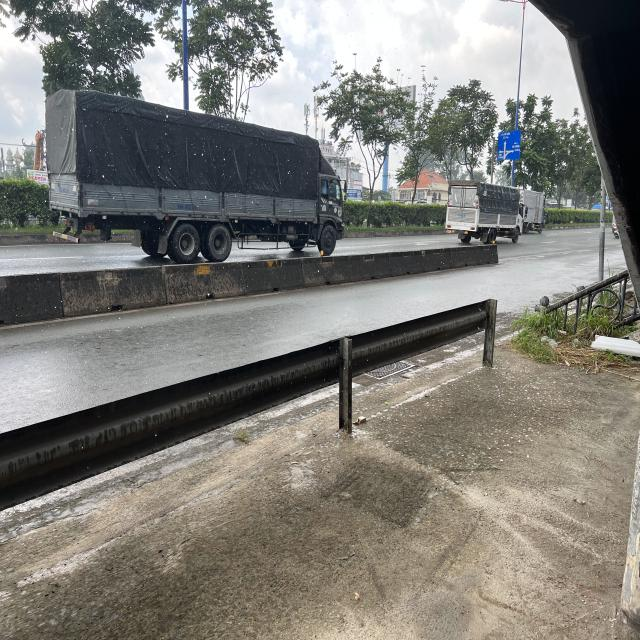truck: (28, 92, 346, 254), (447, 180, 528, 246)
